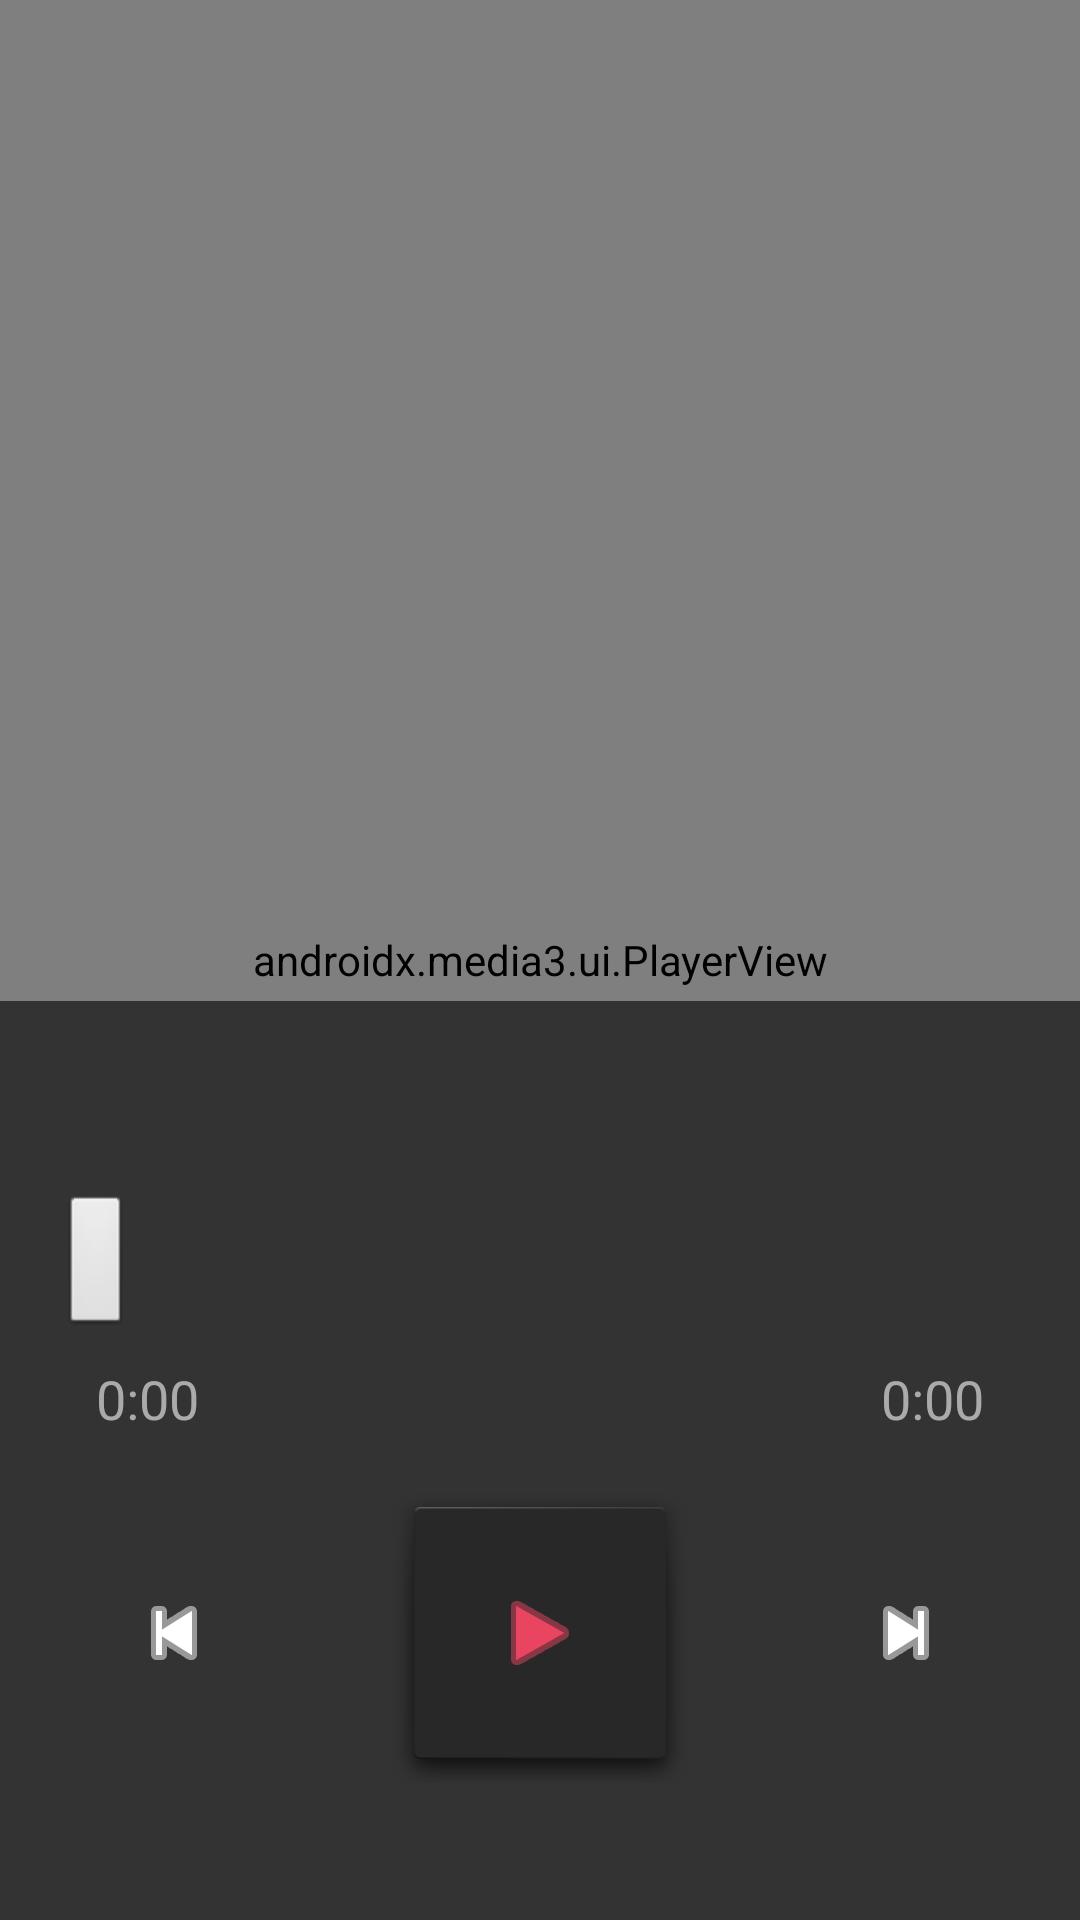

Locate icon controls on the screen. Image size 1080x1920, boxes as [x1,y1,x2,y2].
Next: [883,1606,929,1660]
Play/Pause: [406,1507,674,1775]
Previous: [151,1606,197,1660]
